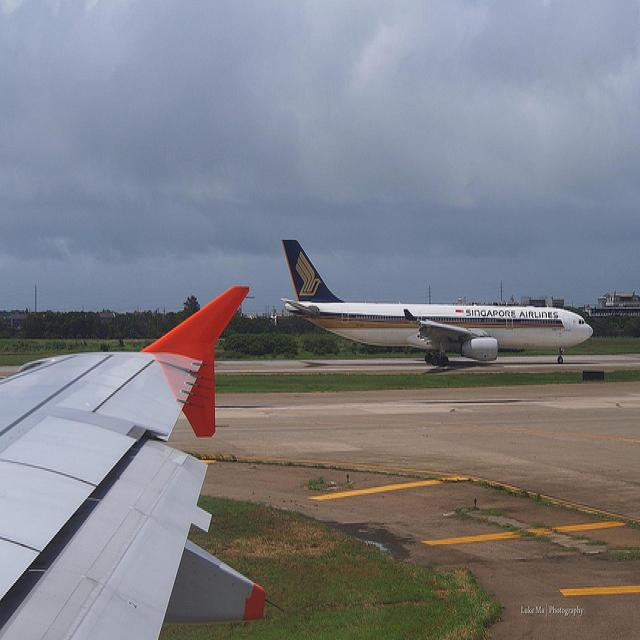airplane: (0, 283, 265, 640), (282, 237, 594, 368)
